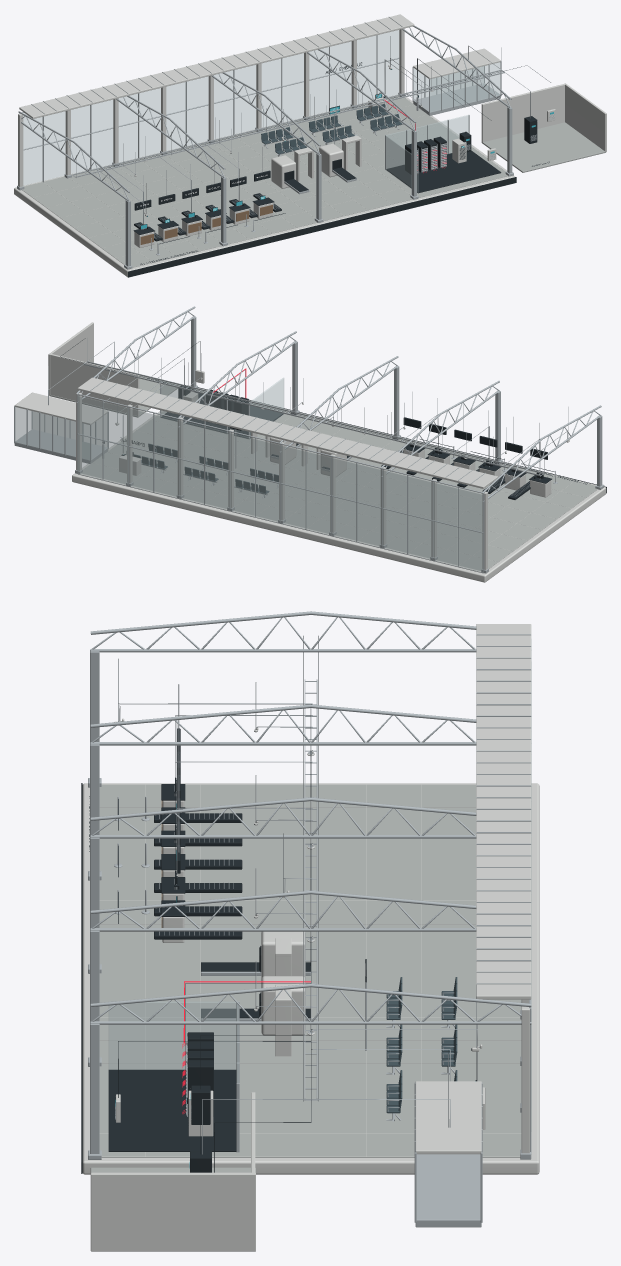
File: airport-connected.glb
3 renders of one model, top to bottom at view 1: azimuth 30°, elevation 25°; view 2: azimuth 150°, elevation 25°; view 3: azimuth 270°, elevation 25°, orthographic. The views are drawn at different scales.
Visible parts, largest first — view 1: Architecture__stone, Architecture__glass, Architecture__chalk, Architecture__metal, Architecture__dark, Furniture-context__chalk, Data__metal, Furniture-context__upholstery, Furniture-context__dark, Data__dark, Furniture-context__wood, Power__dark (+2 smaller); view 2: Architecture__glass, Architecture__stone, Architecture__chalk, Architecture__metal, Furniture-context__chalk, Data__metal, Architecture__dark, Furniture-context__upholstery, Furniture-context__dark, Data__dark; view 3: Architecture__stone, Architecture__chalk, Architecture__metal, Architecture__dark, Architecture__glass, Furniture-context__dark, Furniture-context__chalk, Data__metal, Furniture-context__upholstery, Data__dark, Furniture-context__metal, CCTV__metal (+1 smaller).
Part boxes in pixels (x1=…): Architecture__stone: x1=22, y1=96, x2=605, y2=267; Architecture__glass: x1=23, y1=30, x2=500, y2=193; Architecture__chalk: x1=14, y1=14, x2=606, y2=277; Architecture__metal: x1=17, y1=17, x2=513, y2=269; Architecture__dark: x1=128, y1=62, x2=549, y2=277; Furniture-context__chalk: x1=134, y1=97, x2=388, y2=247; Data__metal: x1=72, y1=47, x2=504, y2=229; Furniture-context__upholstery: x1=261, y1=104, x2=402, y2=154; Furniture-context__dark: x1=133, y1=159, x2=356, y2=241; Data__dark: x1=111, y1=123, x2=446, y2=229; Furniture-context__wood: x1=140, y1=204, x2=272, y2=244; Power__dark: x1=459, y1=65, x2=550, y2=159; Architecture__glass: x1=15, y1=377, x2=483, y2=571; Architecture__stone: x1=49, y1=375, x2=597, y2=571; Architecture__chalk: x1=14, y1=322, x2=606, y2=582; Architecture__metal: x1=14, y1=306, x2=604, y2=573; Furniture-context__chalk: x1=119, y1=432, x2=551, y2=497; Data__metal: x1=83, y1=338, x2=544, y2=479; Architecture__dark: x1=121, y1=378, x2=606, y2=493; Furniture-context__upholstery: x1=134, y1=443, x2=278, y2=494; Furniture-context__dark: x1=271, y1=443, x2=551, y2=499; Data__dark: x1=204, y1=389, x2=543, y2=478; Architecture__stone: x1=90, y1=784, x2=521, y2=1251; Architecture__chalk: x1=82, y1=624, x2=539, y2=1251; Architecture__metal: x1=88, y1=611, x2=531, y2=1227; Architecture__dark: x1=81, y1=728, x2=236, y2=1173; Architecture__glass: x1=108, y1=639, x2=531, y2=1154; Furniture-context__dark: x1=154, y1=784, x2=310, y2=1018; Furniture-context__chalk: x1=162, y1=800, x2=485, y2=1129; Data__metal: x1=174, y1=635, x2=318, y2=1116; Furniture-context__upholstery: x1=386, y1=977, x2=457, y2=1113; Data__dark: x1=174, y1=715, x2=310, y2=1116; Furniture-context__metal: x1=114, y1=796, x2=310, y2=1021; CCTV__metal: x1=118, y1=658, x2=479, y2=1127.
Bounding box in the file's own units: 40.38 × 7.54 × 16.64.
